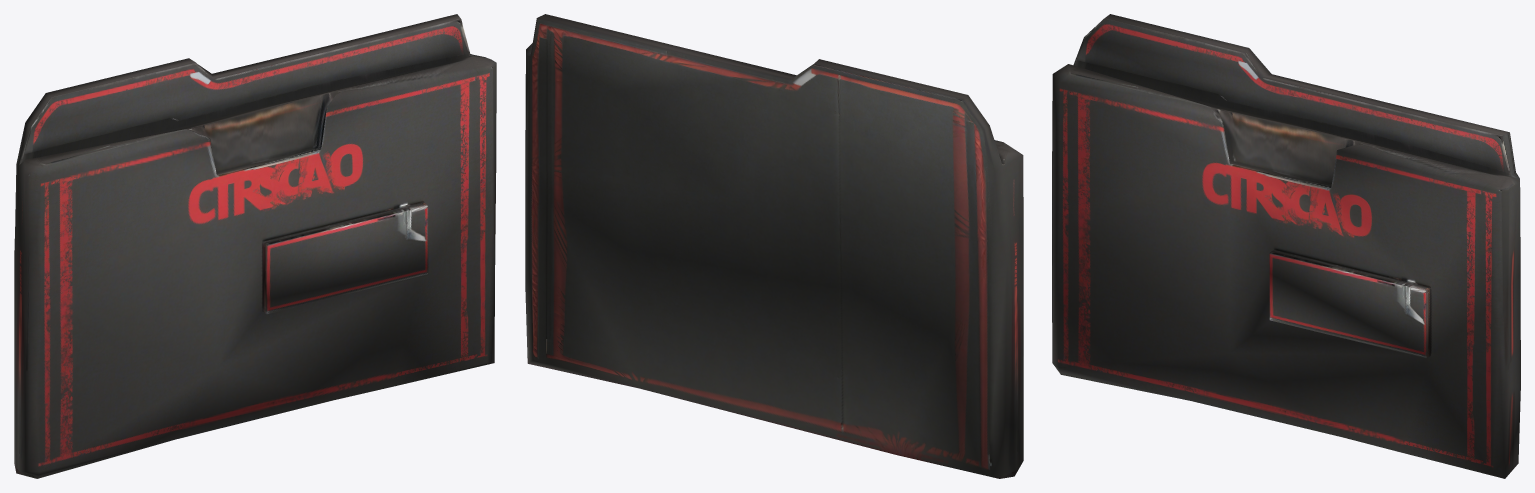
The model's file is _0624125928_texture.glb.
3 views of the same model, side by side, from view 1: azimuth 30°, elevation 25°; view 2: azimuth 150°, elevation 25°; view 3: azimuth 330°, elevation 25° (orthographic). The views are drawn at different scales.
Size of the model in its own units: 2 by 1.47 by 0.2124.
1 material, 1 textured.
